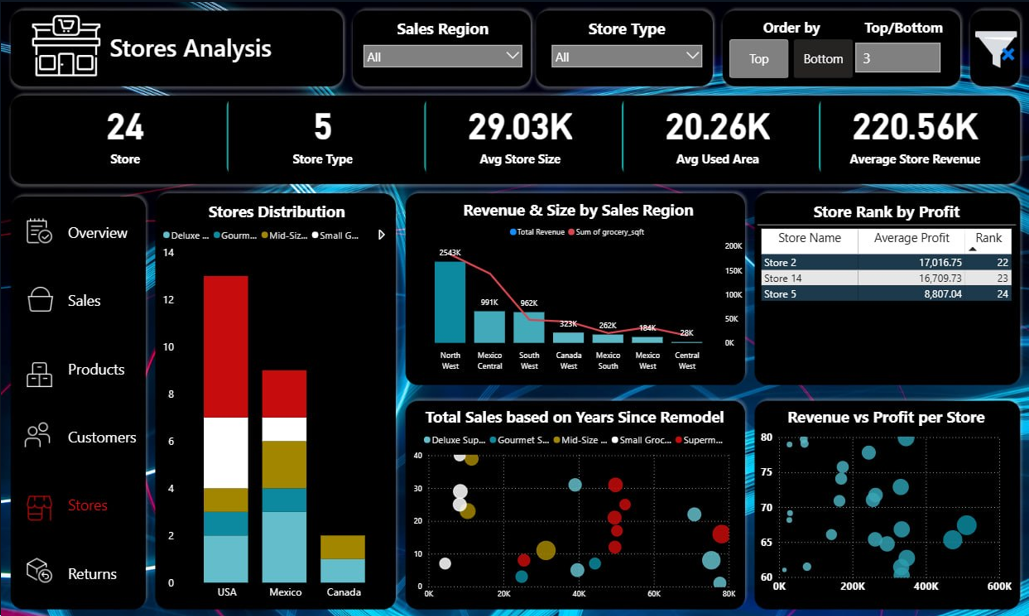

What the dashboard file says about the page in this screenshot:
{"tool":"powerbi","page":{"name":"Stores","canvas":[1600,960],"ordinal":4},"visuals":[{"type":"cardVisual","fields":{"Data":["_Measures.Total Store","_Measures.Total Store Types","_Measures.Avg Store Size","_Measures.Avg Grocery","_Measures.Average Store Revenue"]},"box":[38.6,139.9,1539.4,141.6],"z":0},{"type":"textbox","box":[163.3,41.9,367.8,78.8],"z":1000,"group":"g1"},{"type":"scatterChart","title":"Revenue vs Profit per Store","fields":{"X":["_Measures.Total Revenue"],"Category":["vw_CleanStores.store_name"],"Size":["_Measures.Total Profit"],"Y":["Sum(vw_CleanStores.display_area_pct)"]},"box":[1175.9,629,400.5,302.4],"z":1000},{"type":"lineStackedColumnComboChart","title":"Revenue & Size by Sales Region","fields":{"Y":["_Measures.Total Revenue"],"Category":["vw_CleanStores.sales_region"],"Y2":["Sum(vw_CleanStores.grocery_sqft)"]},"box":[637,307.2,521.2,275.1],"z":2000},{"type":"slicer","title":"Sales Region","fields":{"Values":["vw_CleanStores.sales_region"]},"box":[553.4,25.7,267,101.3],"z":3000},{"type":"scatterChart","title":"Total Sales based on Years Since Remodel","fields":{"X":["_Measures.Total Sales"],"Series":["vw_CleanStores.store_type"],"Size":["Sum(vw_CleanStores.grocery_sqft)"],"Y":["vw_CleanStores.YearsSinceRemodel"]},"box":[637,629,509.9,310.5],"z":4000},{"type":"columnChart","title":"Stores Distribution","fields":{"Category":["vw_CleanStores.Country"],"Series":["vw_CleanStores.store_type"],"Y":["CountNonNull(vw_CleanStores.store_name)"]},"box":[246.1,310.5,365.1,629],"z":5000},{"type":"slicer","title":"Store Type","fields":{"Values":["vw_CleanStores.store_type"]},"box":[846.1,25.7,254.2,101.3],"z":6000},{"type":"tableEx","title":"Store Rank by Profit","fields":{"Values":["vw_CleanStores.store_name","_Measures.Average Store Profit","_Measures.Store Rank"]},"box":[1175.9,310.5,402.1,281.5],"z":7000},{"type":"advancedSlicerVisual","title":"Order by","fields":{"Values":["Top/Bottom.Value"]},"box":[1127.6,25.7,202.7,99.7],"z":8000},{"type":"slicer","title":"Top/Bottom","fields":{"Values":["top/bottom stores.top/bottom stores"]},"box":[1315.8,25.7,175.3,99.7],"z":9000},{"type":"pageNavigator","box":[89.7,309.7,144.7,629.7],"z":10000},{"type":"image","box":[1494.4,25.7,106.2,96.5],"z":11000},{"type":"group","id":"g1","title":"Group 11","box":[163.3,41.9,367.8,78.8],"z":12000},{"type":"image","box":[42.7,11.5,116.6,128.1],"z":13000},{"type":"group","id":"g2","title":"Group 1","box":[32.2,331.4,53.1,579.1],"z":14000},{"type":"image","box":[36.4,437,48.9,51.2],"z":19000,"group":"g2"},{"type":"image","box":[34.7,331.4,48.9,51.2],"z":22000,"group":"g2"},{"type":"image","box":[32.2,648.6,48.9,51.2],"z":23000,"group":"g2"},{"type":"image","box":[35.6,763.1,48.9,51.2],"z":24000,"group":"g2"},{"type":"image","box":[35.6,554.7,48.9,51.2],"z":25000,"group":"g2"},{"type":"image","box":[34.7,859.2,48.9,51.2],"z":26000,"group":"g2"}]}

Visuals, with their boxes in screenshot pixels (x1, y1, x2, y2), scaled from the page's 1600x960 canvas onto the 1029x616 screenshot:
cardVisual - _Measures.Total Store x _Measures.Total Store Types: [x1=25, y1=90, x2=1015, y2=181]
textbox: [x1=105, y1=27, x2=342, y2=77]
"Revenue vs Profit per Store" scatterChart: [x1=756, y1=404, x2=1014, y2=598]
"Revenue & Size by Sales Region" lineStackedColumnComboChart: [x1=410, y1=197, x2=745, y2=374]
"Sales Region" slicer: [x1=356, y1=16, x2=528, y2=81]
"Total Sales based on Years Since Remodel" scatterChart: [x1=410, y1=404, x2=738, y2=603]
"Stores Distribution" columnChart: [x1=158, y1=199, x2=393, y2=603]
"Store Type" slicer: [x1=544, y1=16, x2=708, y2=81]
"Store Rank by Profit" tableEx: [x1=756, y1=199, x2=1015, y2=380]
"Order by" advancedSlicerVisual: [x1=725, y1=16, x2=856, y2=80]
"Top/Bottom" slicer: [x1=846, y1=16, x2=959, y2=80]
pageNavigator: [x1=58, y1=199, x2=151, y2=603]
image: [x1=961, y1=16, x2=1028, y2=78]
"Group 11" group: [x1=105, y1=27, x2=342, y2=77]
image: [x1=27, y1=7, x2=102, y2=90]
"Group 1" group: [x1=21, y1=213, x2=55, y2=584]
image: [x1=23, y1=280, x2=55, y2=313]
image: [x1=22, y1=213, x2=54, y2=246]
image: [x1=21, y1=416, x2=52, y2=449]
image: [x1=23, y1=490, x2=54, y2=523]
image: [x1=23, y1=356, x2=54, y2=389]
image: [x1=22, y1=551, x2=54, y2=584]
